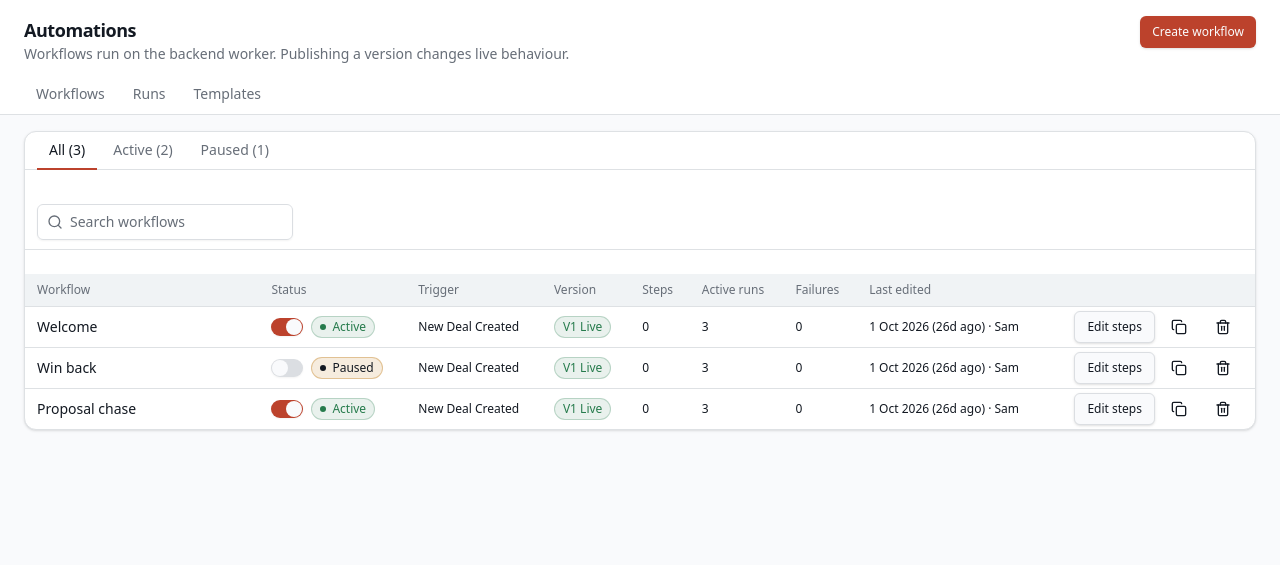
Test: WorkflowsPage tabs › combines the tab with the search
The image size is (1280, 565).
Check: the link "Welcome" is shown, box x1=37 y1=317 x2=97 y2=336
Step 1. Click the tab "Active (2)" → (143, 151), box x1=101 y1=132 x2=185 y2=170
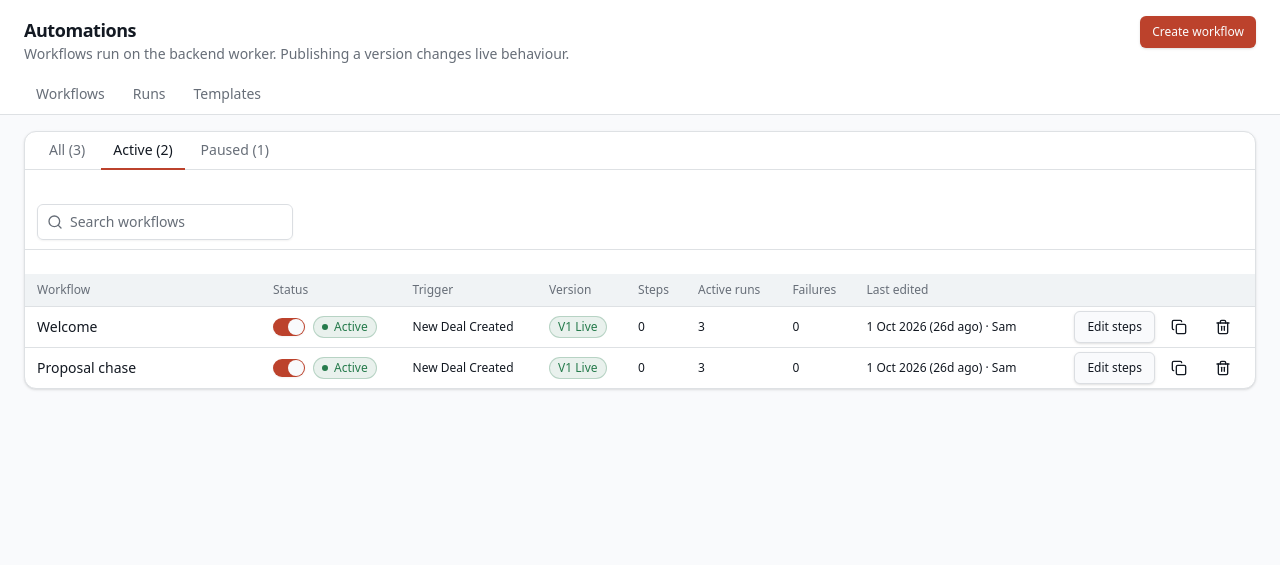
Step 2. Type "chase" into the field labelled "Search workflows" → (165, 222), box x1=37 y1=204 x2=293 y2=240
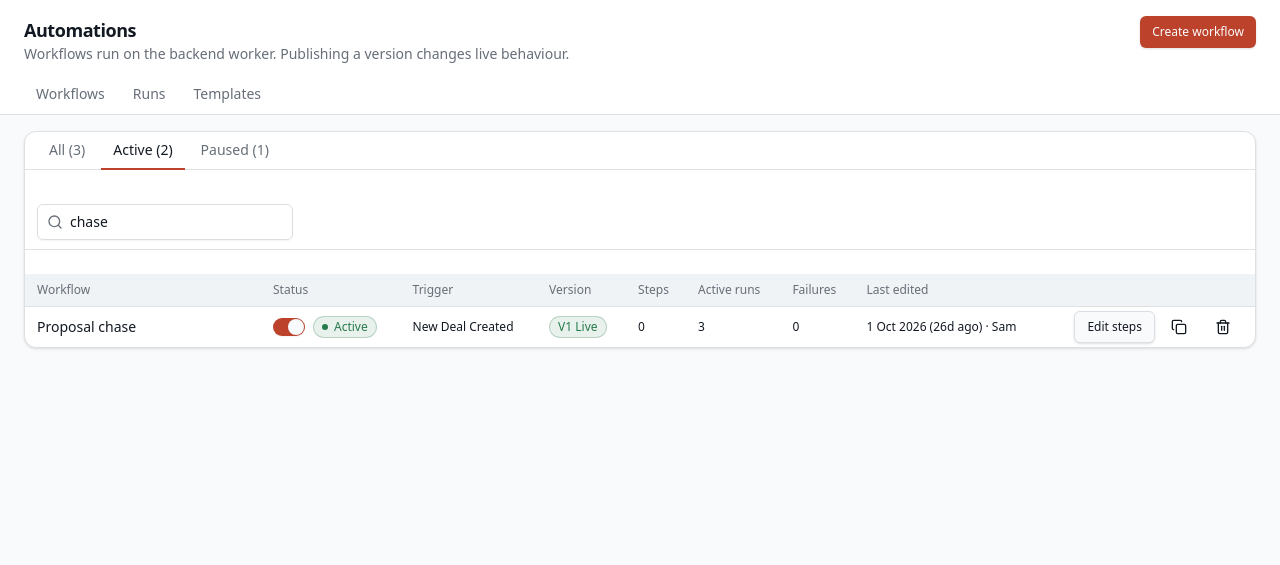
Check: the link "Proposal chase" is shown, box x1=37 y1=317 x2=136 y2=336
Check: the link "Welcome" is gone
Step 3. Replace the text in the field named "Search workflows" with "win" → (165, 222), box x1=37 y1=204 x2=293 y2=240
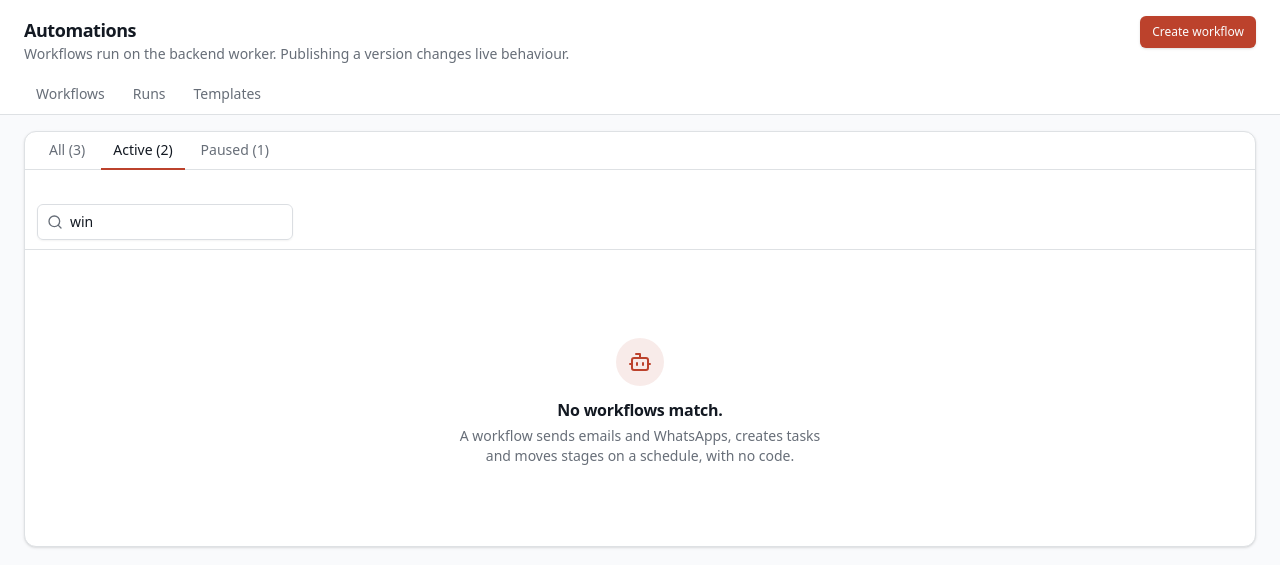
Check: the heading "No workflows match." is shown, box x1=557 y1=398 x2=723 y2=422
